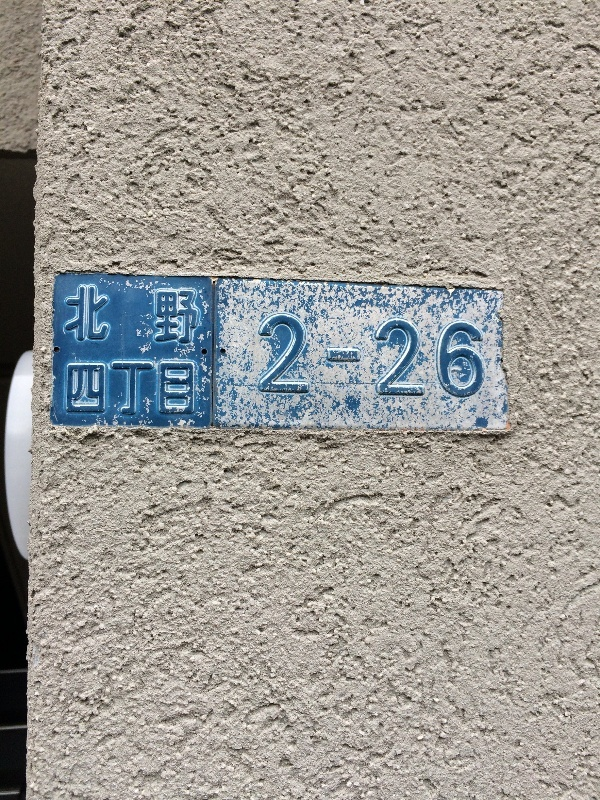text: (273, 314, 288, 403), (289, 314, 304, 403), (305, 314, 320, 403), (321, 314, 336, 403), (337, 314, 352, 403), (353, 314, 368, 403), (369, 314, 384, 403), (385, 314, 400, 403), (401, 314, 416, 403), (417, 314, 432, 403), (433, 314, 448, 403), (449, 314, 464, 403), (465, 314, 480, 403), (258, 314, 272, 403), (65, 283, 80, 347), (81, 283, 96, 347), (97, 283, 112, 347), (113, 283, 128, 347), (129, 283, 144, 347), (145, 283, 160, 347), (161, 283, 176, 347), (177, 283, 192, 347), (81, 358, 96, 419), (97, 358, 112, 419), (113, 358, 128, 419), (129, 358, 144, 419), (145, 358, 160, 419), (161, 358, 176, 419), (177, 358, 192, 419), (66, 358, 80, 419), (481, 314, 486, 403), (193, 283, 199, 347), (193, 358, 196, 419)
